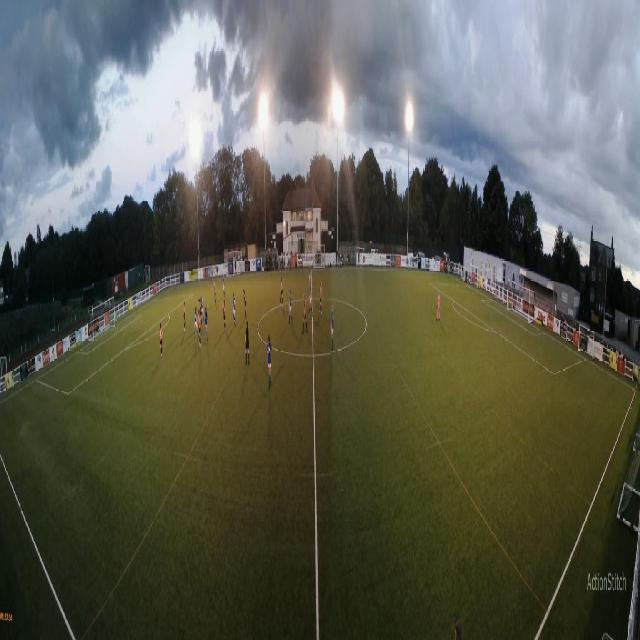ball: (202, 297, 204, 303)
player: (266, 334, 272, 390), (302, 293, 309, 334), (244, 320, 250, 366), (308, 280, 314, 318), (288, 288, 294, 325), (197, 309, 202, 351), (331, 303, 335, 351), (159, 322, 164, 359), (232, 292, 237, 328), (222, 299, 227, 333), (279, 275, 284, 309), (194, 306, 199, 338), (436, 290, 441, 322), (204, 305, 208, 342), (319, 280, 323, 316), (201, 293, 205, 324), (243, 289, 247, 320), (198, 298, 202, 328), (213, 280, 217, 306), (114, 309, 118, 333), (222, 274, 226, 298), (183, 301, 186, 332), (309, 264, 312, 284)
